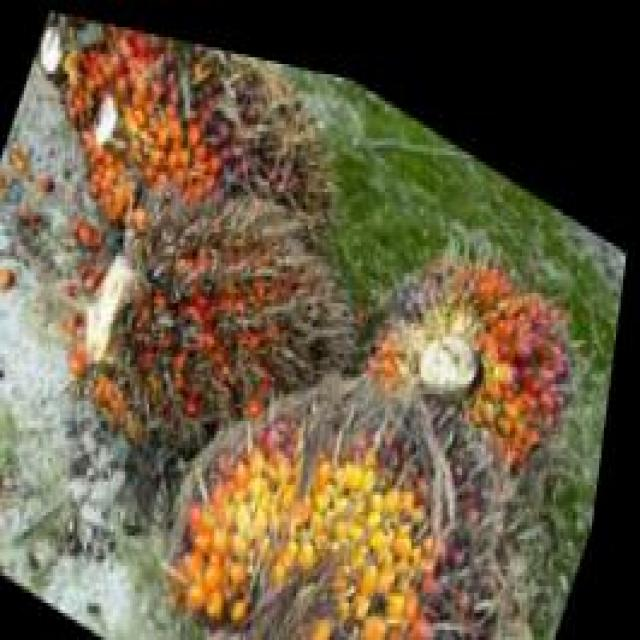Ripefruit: (145, 266, 598, 640), (19, 8, 352, 305), (355, 166, 622, 476)
